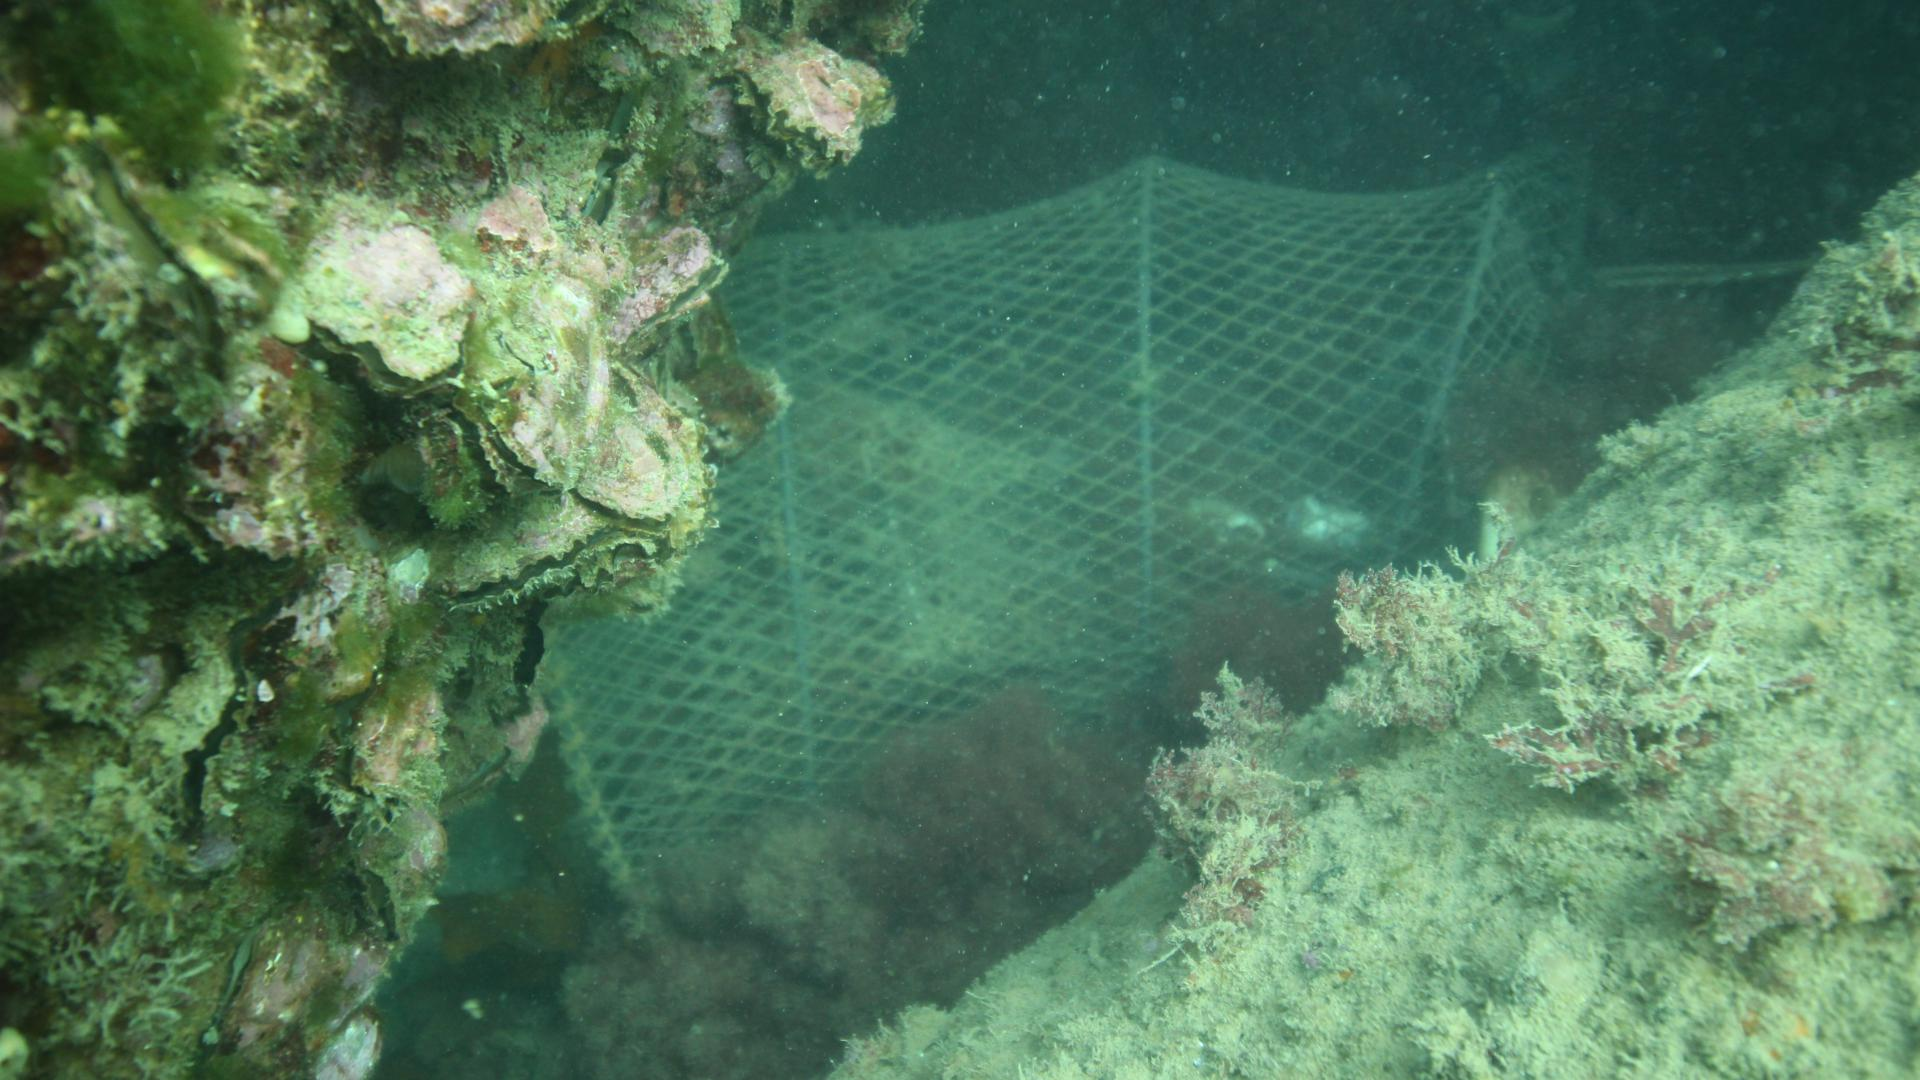spring fish trap: (535, 140, 1594, 944)
